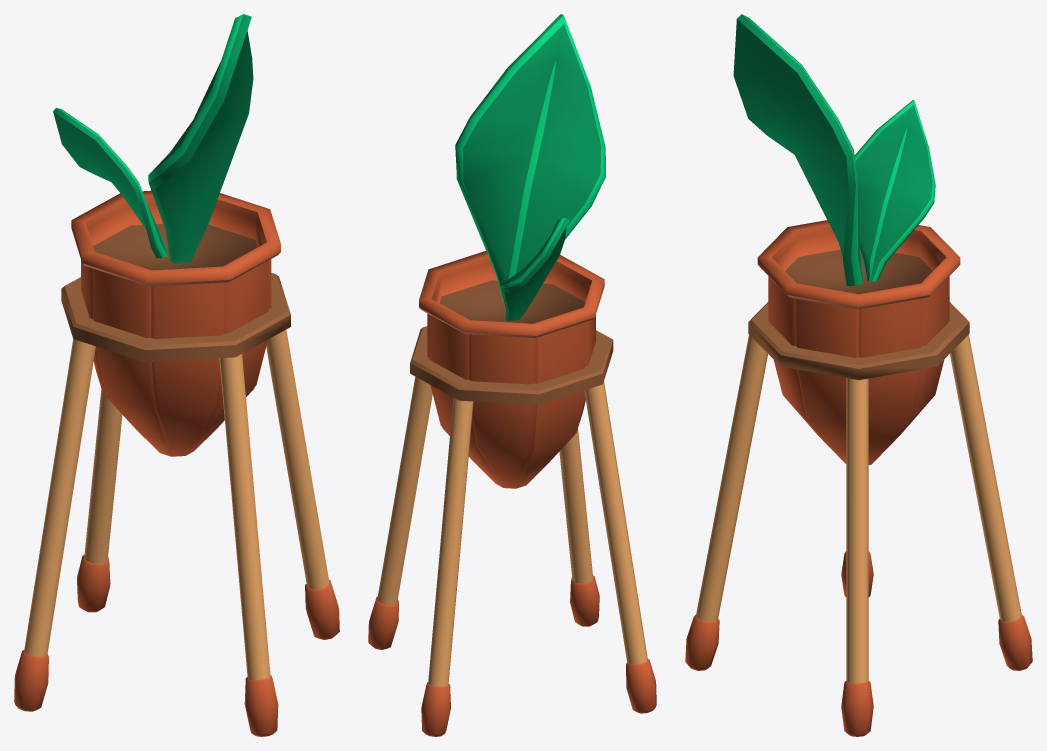
The model's file is FlowerPot.fbx.
3 views of the same model, side by side, from view 1: azimuth 30°, elevation 25°; view 2: azimuth 150°, elevation 25°; view 3: azimuth 270°, elevation 25° (orthographic). The views are drawn at different scales.
Parts seen in each view (by area): view 1: FlowerPot; view 2: FlowerPot; view 3: FlowerPot.
Part boxes in pixels (box(x1,y1,x2,y2)): FlowerPot: box(14, 14, 339, 736); FlowerPot: box(368, 14, 656, 736); FlowerPot: box(685, 14, 1032, 736).
Bounding box in the file's own units: 0.7504 × 1.56 × 0.7504.
